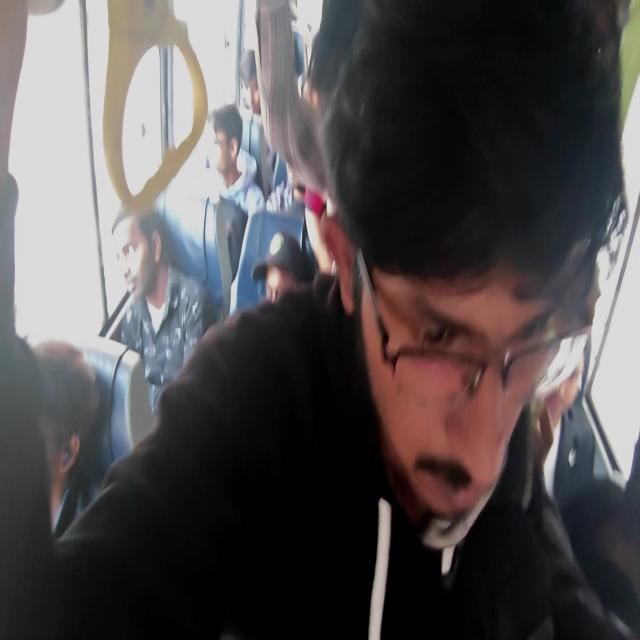person: (347, 2, 581, 541), (4, 366, 99, 505), (105, 203, 163, 306), (215, 121, 258, 224), (252, 250, 295, 328), (277, 108, 301, 217), (238, 62, 272, 130), (564, 373, 589, 438)
